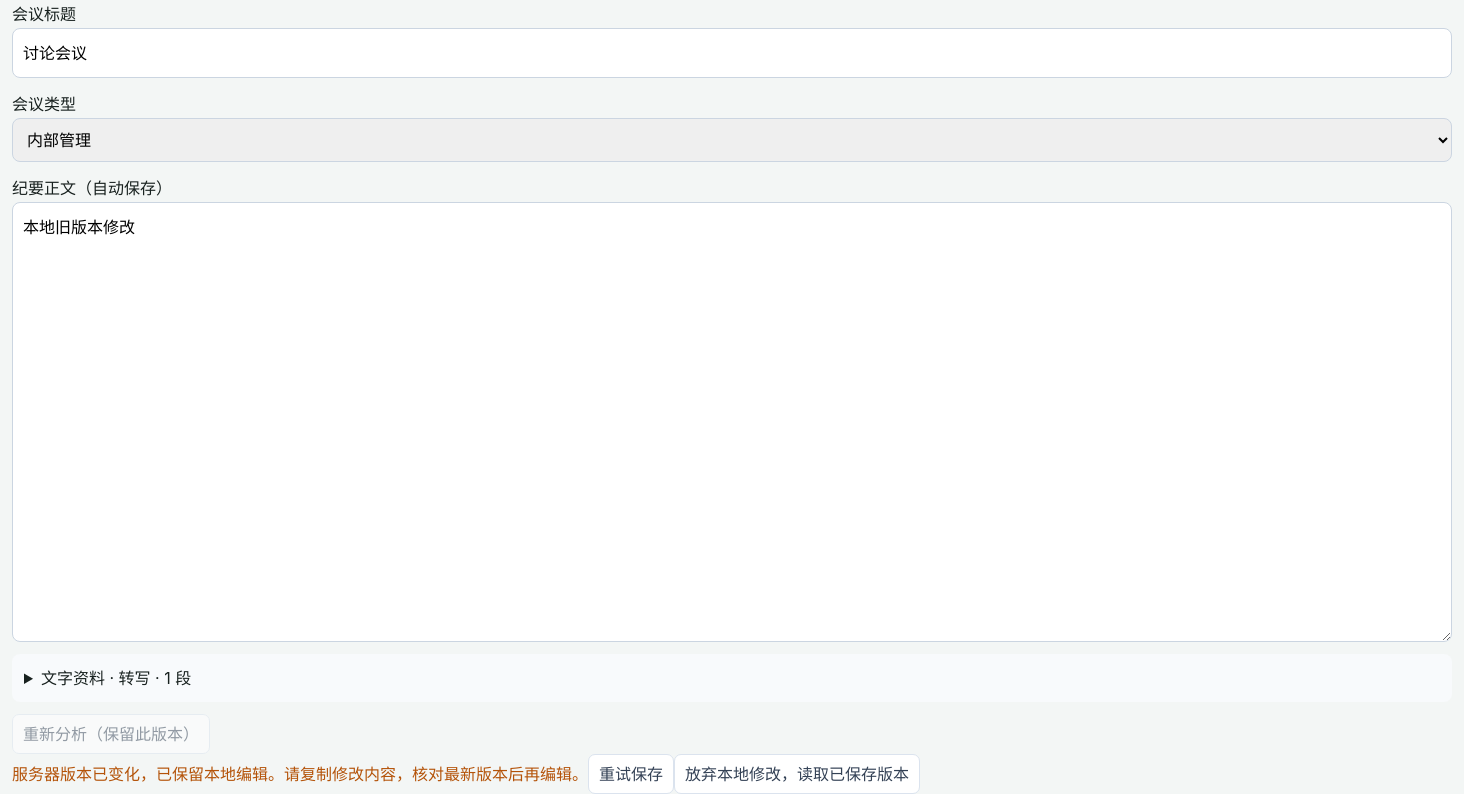
Test: meeting results › preserves a conflicting draft base across reloads until the user reloads the saved version
(page scrolled)
Click the button "放弃本地修改，读取已保存版本": {"x": 797, "y": 774} [674, 754, 920, 793]
(page scrolled)
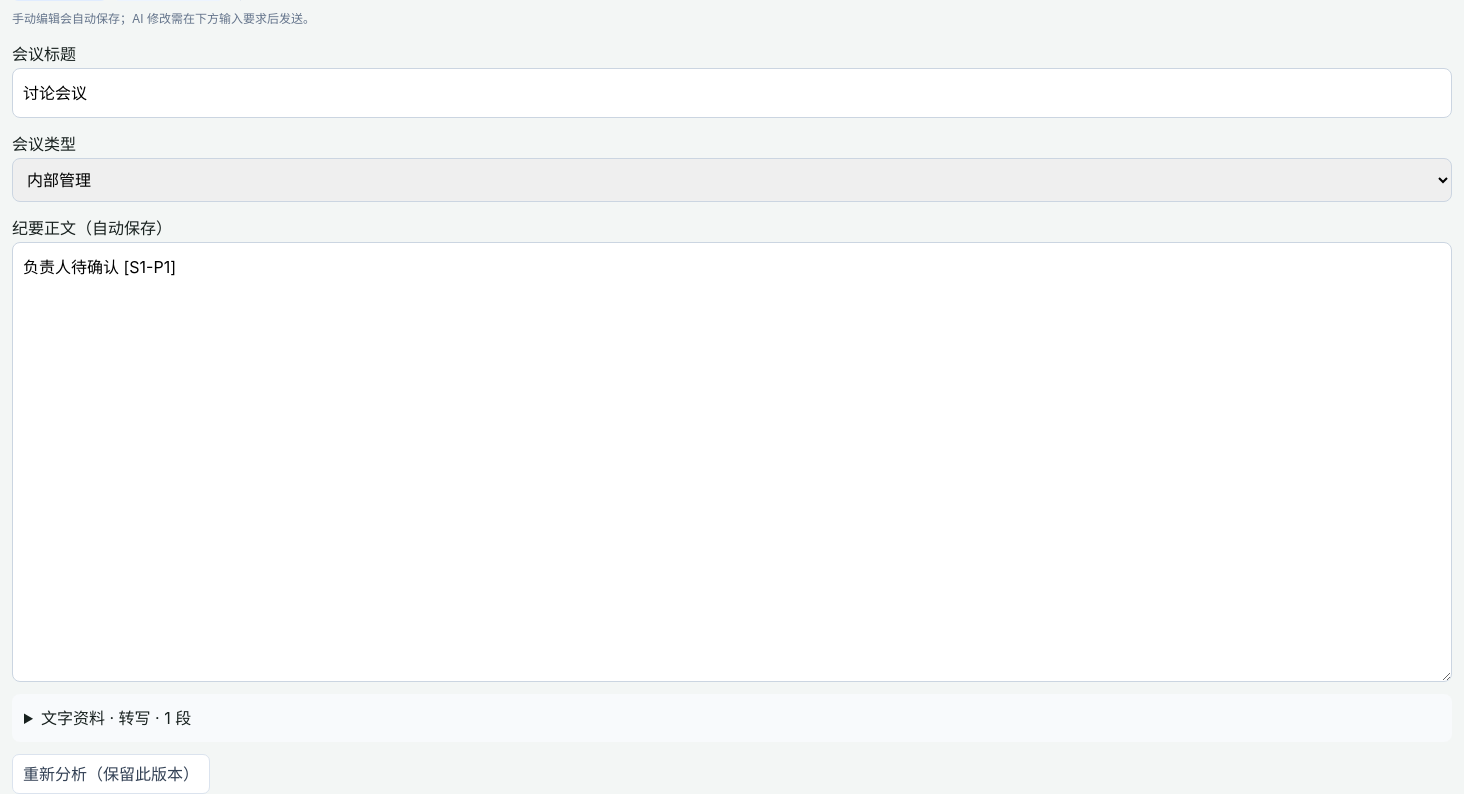
Expected: the text box labelled "纪要正文（自动保存）" holds "负责人待确认 [S1-P1]", [12, 242, 1452, 682]
